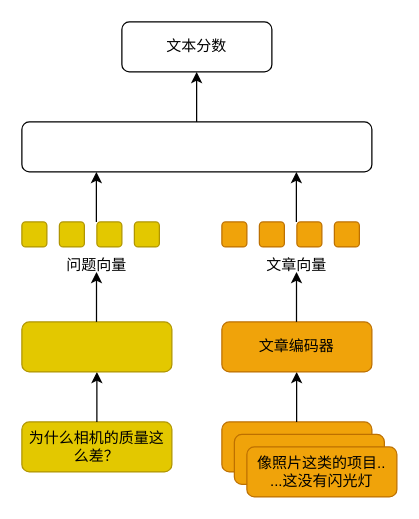
This 419x519 diagram has some shape labels left out. The centre of each missing label's shape, as x and y in pixels:
点积相似度: (196,146)
问题编码器: (96,346)
